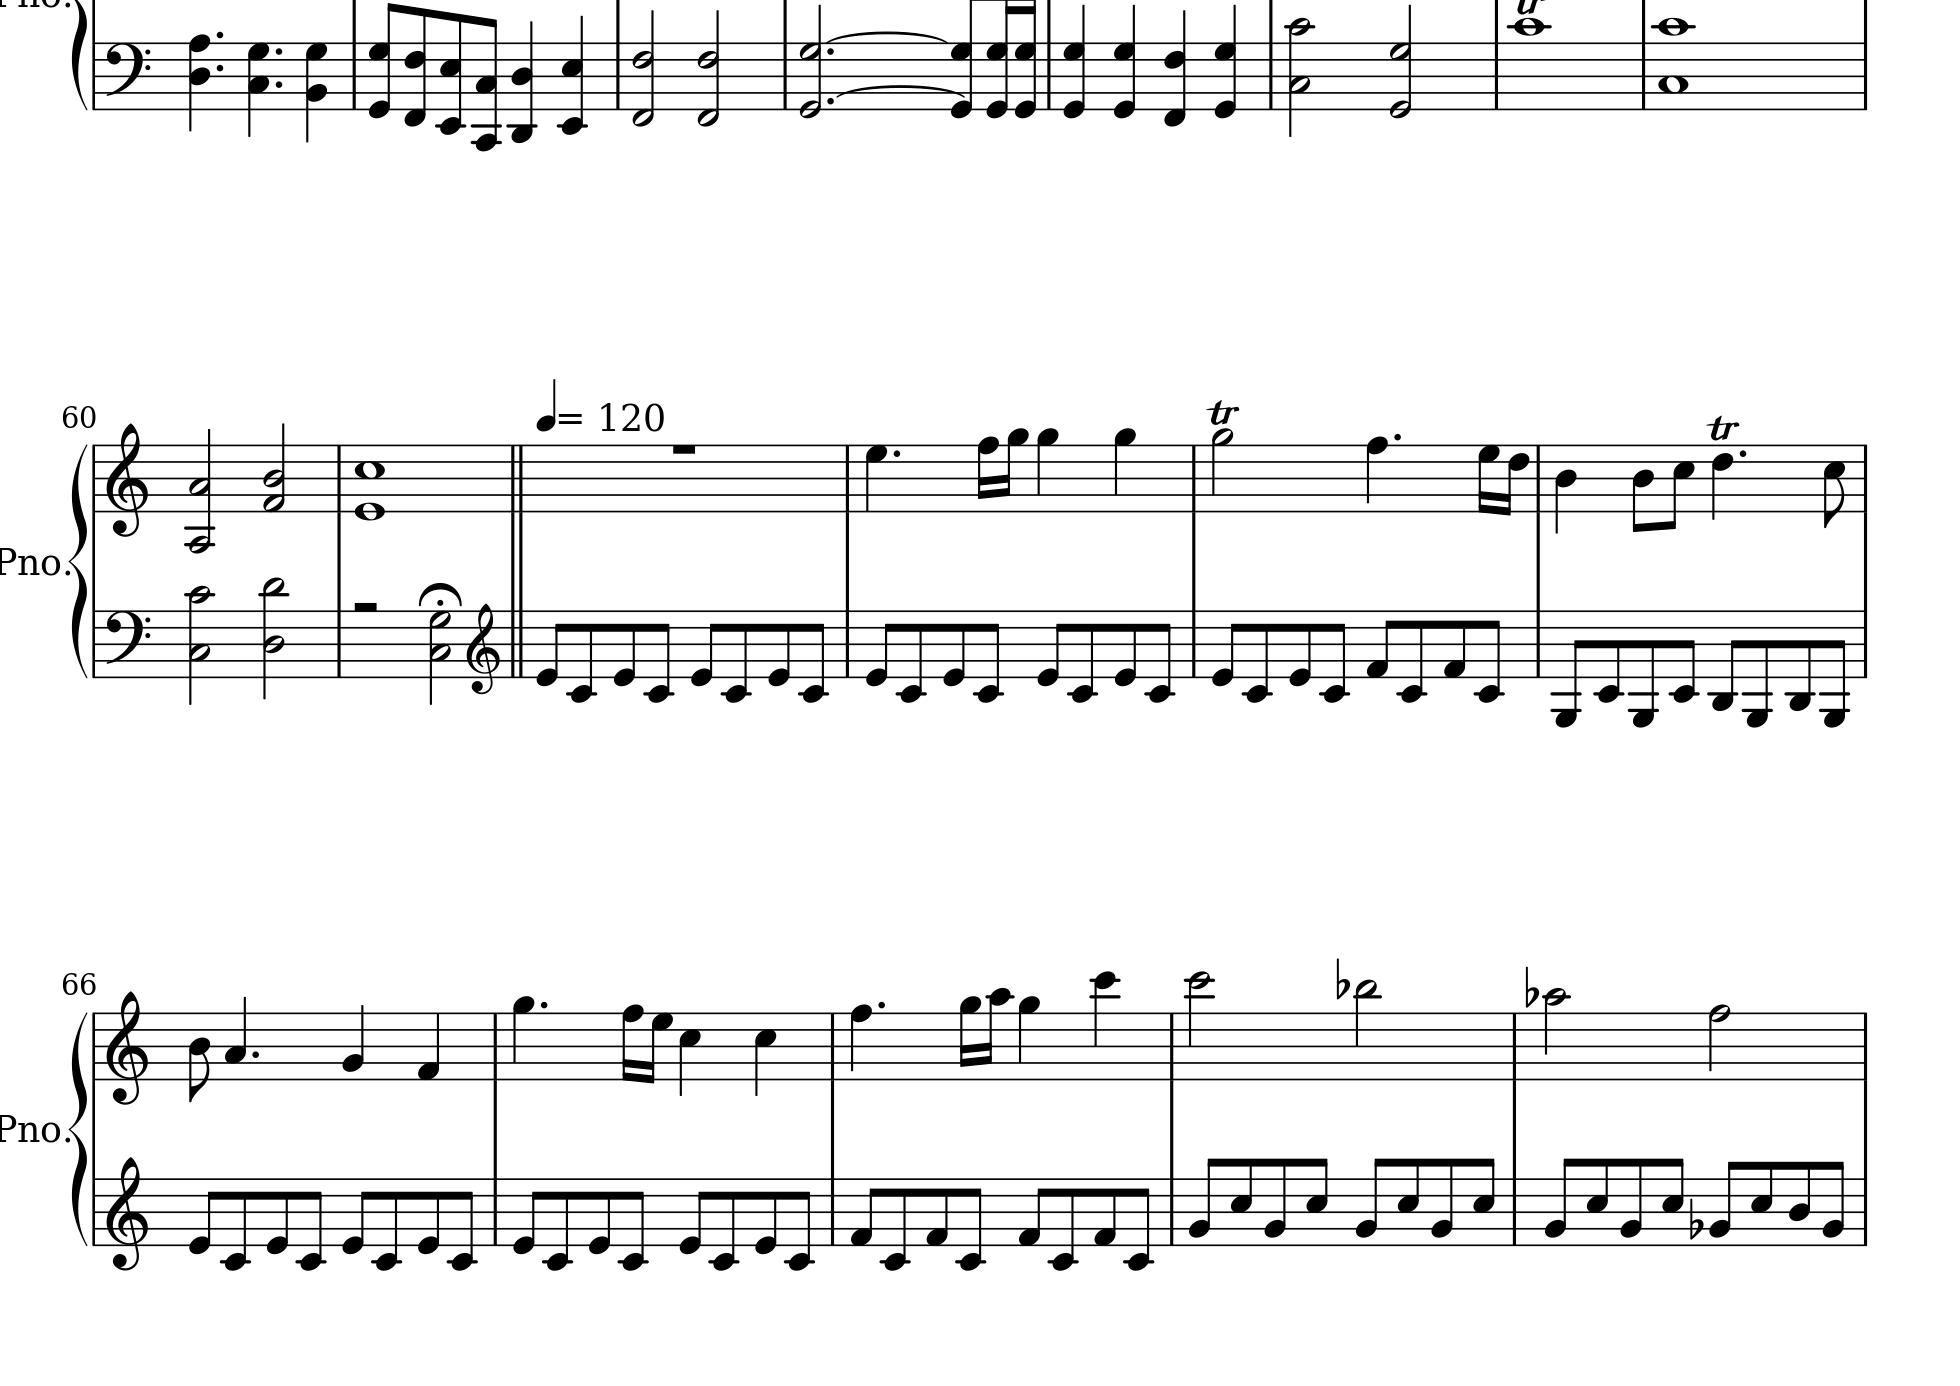0: (642, 399, 664, 432), (79, 400, 97, 430)
1: (598, 399, 616, 432)
16_10: (982, 985, 1014, 1081)
16_6: (1503, 442, 1531, 516)
16_7: (645, 1009, 673, 1084), (1476, 442, 1500, 516)
16_8: (973, 433, 999, 513), (619, 1002, 643, 1083)
16_9: (1002, 426, 1029, 513), (957, 993, 981, 1081)
1_0_5: (352, 444, 387, 525)
1_10: (1506, 16, 1554, 111)
1_3_10: (1653, 16, 1701, 112)
2: (619, 400, 642, 432)
2_-1_6: (694, 7, 723, 127), (1162, 9, 1191, 127), (630, 7, 657, 129)
2_-4_3: (181, 429, 219, 553)
2_0_7: (796, 3, 823, 120), (1212, 4, 1239, 118), (1113, 4, 1140, 118), (1062, 4, 1089, 118), (1389, 1, 1414, 118)
2_10: (1542, 985, 1570, 1081)
2_11: (1353, 978, 1380, 1083)
2_12: (1185, 967, 1215, 1081)
2_1_4: (262, 424, 286, 514)
2_3_10: (184, 582, 214, 705), (1284, 16, 1314, 138)
2_4_11: (258, 576, 288, 700)
2_8: (1707, 1000, 1732, 1081)
2_9: (1209, 426, 1234, 514)
4_-2_5: (556, 13, 589, 136)
4_-3_4: (505, 19, 538, 145)
4_1: (415, 1009, 441, 1081)
4_12: (1090, 970, 1120, 1081)
4_2: (340, 1003, 367, 1081)
4_2_7: (303, 40, 330, 142)
4_3: (223, 994, 247, 1081)
4_3_7: (244, 40, 271, 139)
4_4: (1554, 442, 1578, 534)
4_4_8: (187, 33, 211, 132)
4_5: (676, 1009, 702, 1098), (753, 1009, 778, 1098)
4_6: (1711, 442, 1734, 522)
4_7: (862, 442, 888, 513)
4_8: (1365, 433, 1389, 514), (847, 1002, 871, 1081)
4_9: (1035, 424, 1062, 513), (1113, 424, 1138, 514), (511, 993, 535, 1081), (1017, 994, 1041, 1081)
6: (61, 402, 79, 430), (61, 969, 79, 996), (79, 969, 97, 996)
8_-1_6: (400, 4, 427, 127)
8_-2: (1473, 607, 1506, 703), (973, 607, 1005, 703), (1396, 607, 1428, 703), (1593, 607, 1624, 703), (447, 1176, 478, 1270), (955, 1176, 987, 1270), (1123, 1176, 1155, 1270), (643, 607, 673, 703), (721, 607, 751, 703), (798, 607, 828, 703), (895, 607, 925, 703), (1068, 607, 1098, 703), (1146, 607, 1176, 703), (1320, 607, 1350, 703), (1669, 607, 1699, 703), (880, 1176, 910, 1272), (565, 609, 595, 703), (220, 1176, 250, 1270), (295, 1176, 325, 1270), (372, 1176, 402, 1270), (543, 1176, 573, 1270), (618, 1176, 648, 1270), (784, 1176, 814, 1270), (709, 1177, 739, 1270), (1243, 607, 1272, 703), (1050, 1176, 1077, 1272)
8_-2_5: (433, 10, 466, 136)
8_-3: (1710, 607, 1743, 712), (1786, 607, 1815, 712)
8_-4_3: (469, 16, 501, 153)
8_-5: (1551, 607, 1587, 730), (1629, 607, 1659, 729), (1821, 607, 1851, 729), (1743, 607, 1773, 727)
8_0: (187, 1174, 220, 1255), (688, 607, 721, 687), (1035, 607, 1068, 685), (676, 1176, 709, 1254), (534, 607, 565, 687), (1210, 607, 1242, 687), (511, 1176, 543, 1255), (864, 607, 895, 685), (340, 1176, 372, 1254), (610, 607, 637, 687), (415, 1174, 442, 1254), (586, 1174, 613, 1254), (1113, 607, 1140, 685), (1287, 607, 1314, 685), (264, 1174, 289, 1255), (753, 1174, 778, 1255), (766, 607, 792, 685), (942, 607, 967, 685)
8_0_7: (367, 1, 400, 118)
8_1: (847, 1176, 880, 1246), (1365, 607, 1396, 679), (1017, 1176, 1048, 1248), (1092, 1174, 1119, 1246), (1441, 607, 1467, 679), (924, 1174, 949, 1246)
8_2: (1354, 1156, 1387, 1246), (1708, 1159, 1741, 1246), (1188, 1156, 1219, 1246), (1543, 1156, 1575, 1246), (1263, 1156, 1290, 1248), (1620, 1156, 1645, 1246), (1822, 1159, 1848, 1246), (1431, 1156, 1455, 1246)
8_4: (186, 1009, 211, 1102), (1788, 1159, 1813, 1246), (1632, 442, 1654, 534)
8_5: (1665, 442, 1695, 529), (1228, 1156, 1255, 1246), (1395, 1156, 1422, 1246), (1584, 1156, 1611, 1246), (1749, 1159, 1776, 1246), (1660, 1155, 1686, 1246), (1305, 1156, 1330, 1246), (1471, 1156, 1497, 1246), (1821, 442, 1846, 529)
Brace: (67, 1008, 90, 1243), (69, 439, 90, 679)
Double_barline: (505, 444, 529, 511), (505, 607, 528, 676)
Fclef: (102, 40, 151, 112), (103, 607, 151, 679)
Fermata_above: (417, 580, 465, 607)
Flat: (1687, 1195, 1704, 1240), (1335, 954, 1350, 1000), (1524, 961, 1539, 1008)
Gclef: (103, 421, 150, 538), (103, 1153, 148, 1272), (103, 988, 148, 1105), (465, 601, 501, 694)
Pno: (1, 544, 60, 580), (1, 1110, 60, 1144)
Rests1: (667, 439, 700, 457)
Rests2: (349, 595, 382, 616)
Single_barline: (1854, 1177, 1875, 1246), (1854, 1011, 1875, 1078), (1504, 1177, 1525, 1245), (1488, 42, 1506, 109), (1635, 42, 1653, 109), (330, 444, 348, 511), (1185, 444, 1203, 511), (1530, 444, 1548, 511), (1164, 1011, 1182, 1078), (1506, 1011, 1524, 1078), (1263, 42, 1281, 108), (1855, 43, 1873, 109), (838, 445, 856, 511), (1857, 442, 1873, 511), (1041, 42, 1057, 109), (1530, 610, 1546, 678), (1164, 1177, 1180, 1245), (823, 1177, 840, 1245), (838, 610, 855, 676), (1185, 610, 1201, 676), (487, 1012, 504, 1078), (825, 1012, 841, 1078), (346, 40, 361, 109), (1857, 609, 1872, 678), (777, 42, 792, 109), (331, 609, 346, 676), (610, 43, 625, 109), (487, 1179, 502, 1245), (88, 444, 102, 511), (88, 609, 102, 676), (88, 43, 102, 109), (88, 1012, 102, 1078), (88, 1177, 100, 1243)
Slur: (825, 30, 946, 43)
Speed4: (538, 376, 583, 429)
Trill: (1704, 412, 1741, 444), (1206, 396, 1240, 424)
dot: (271, 43, 285, 58), (537, 997, 550, 1012), (889, 445, 901, 460), (823, 45, 837, 57), (213, 60, 225, 73), (273, 76, 285, 90), (1737, 447, 1749, 460), (874, 999, 888, 1011), (213, 28, 225, 40), (823, 94, 835, 106), (1392, 430, 1404, 442), (249, 1047, 259, 1060)
